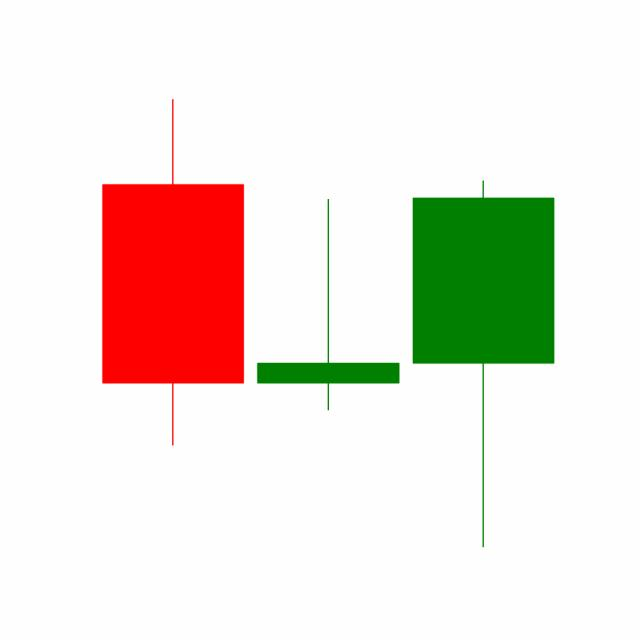Gravestone Doji: (249, 195, 406, 412)
